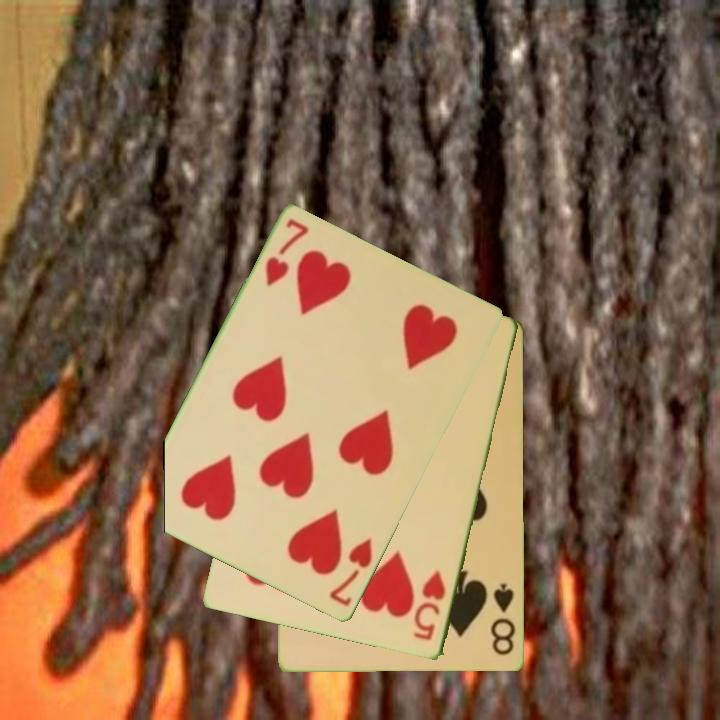5h: (410, 568, 449, 644)
7h: (261, 215, 312, 291), (326, 534, 376, 610)
8s: (487, 580, 518, 659)
